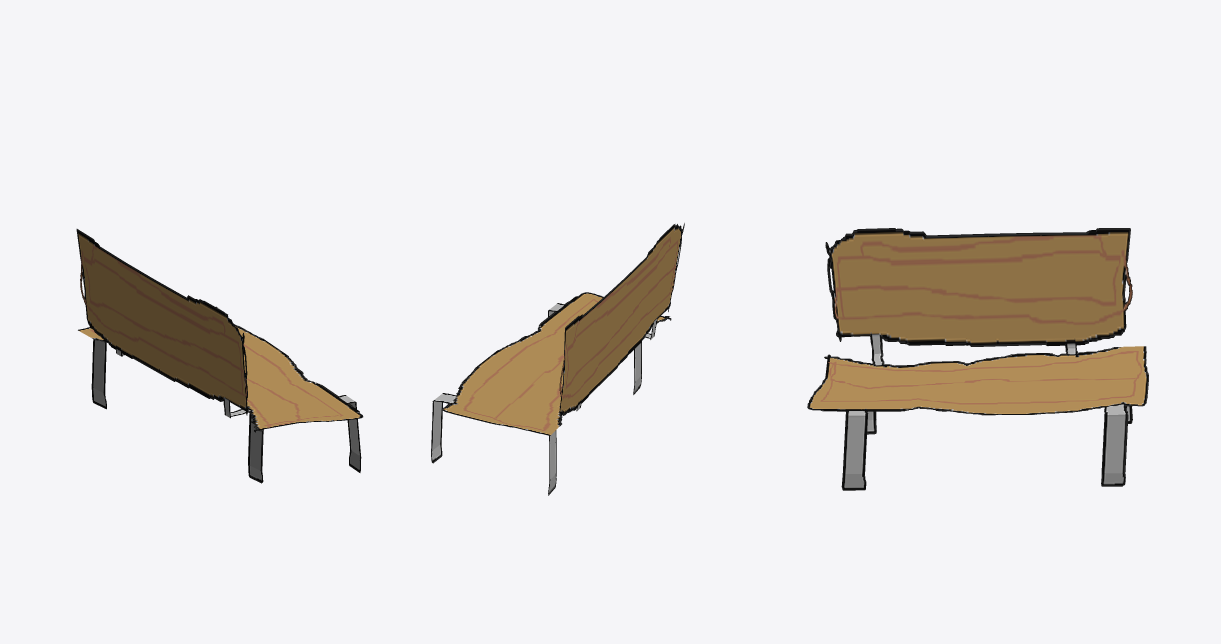
The model's file is Bench.fbx.
3 renders of one model, left to right at view 1: azimuth 30°, elevation 25°; view 2: azimuth 150°, elevation 25°; view 3: azimuth 270°, elevation 25°, orthographic. The views are drawn at different scales.
Visible parts, largest first — view 1: Plane; view 2: Plane; view 3: Plane.
Boxes of the visible parts, x1,y1,x2,y2 form: Plane: [76, 229, 363, 483]; Plane: [431, 223, 684, 495]; Plane: [807, 228, 1148, 490].
Size of the model in its own units: 95.61 by 272 by 200.
1 material, 1 textured.
